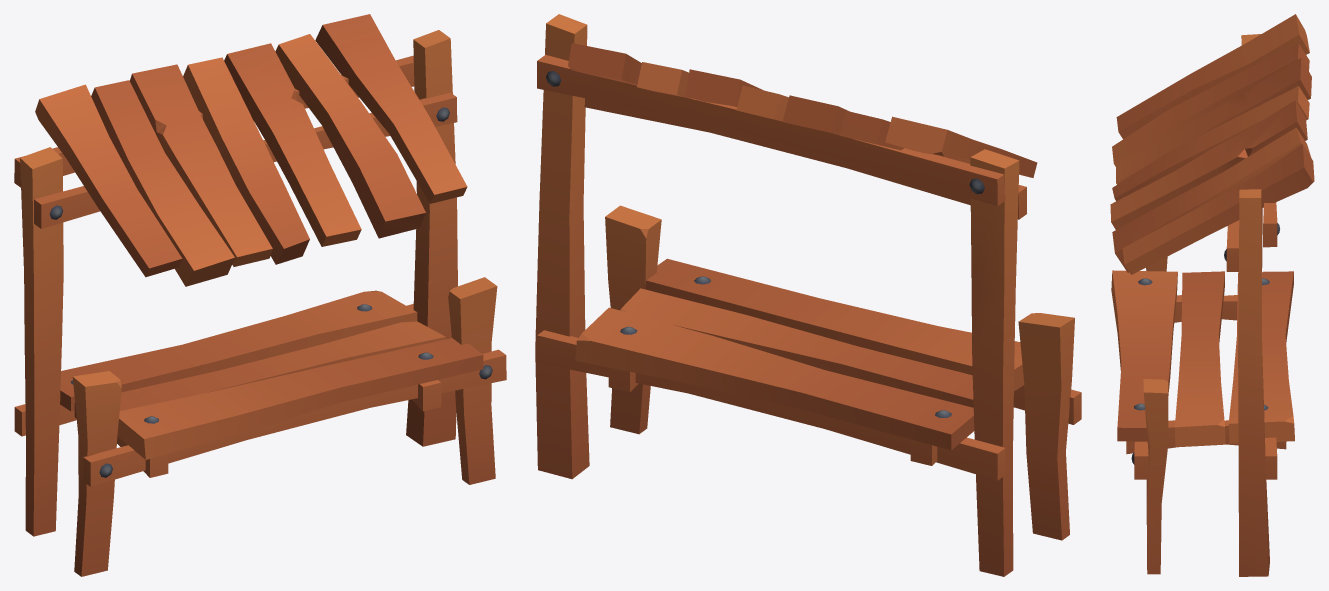
Rendered from SM_WorkBench_1.fbx.
3 renders of one model, left to right at view 1: azimuth 30°, elevation 25°; view 2: azimuth 150°, elevation 25°; view 3: azimuth 270°, elevation 25°, orthographic. The views are drawn at different scales.
Parts seen in each view (by area): view 1: SM_WorkBench_1; view 2: SM_WorkBench_1; view 3: SM_WorkBench_1.
Boxes of the visible parts, x1=… form: SM_WorkBench_1: x1=14, y1=14, x2=506, y2=576; SM_WorkBench_1: x1=535, y1=14, x2=1081, y2=576; SM_WorkBench_1: x1=1110, y1=14, x2=1314, y2=576.
Bounding box in the file's own units: 257 × 240 × 114.
